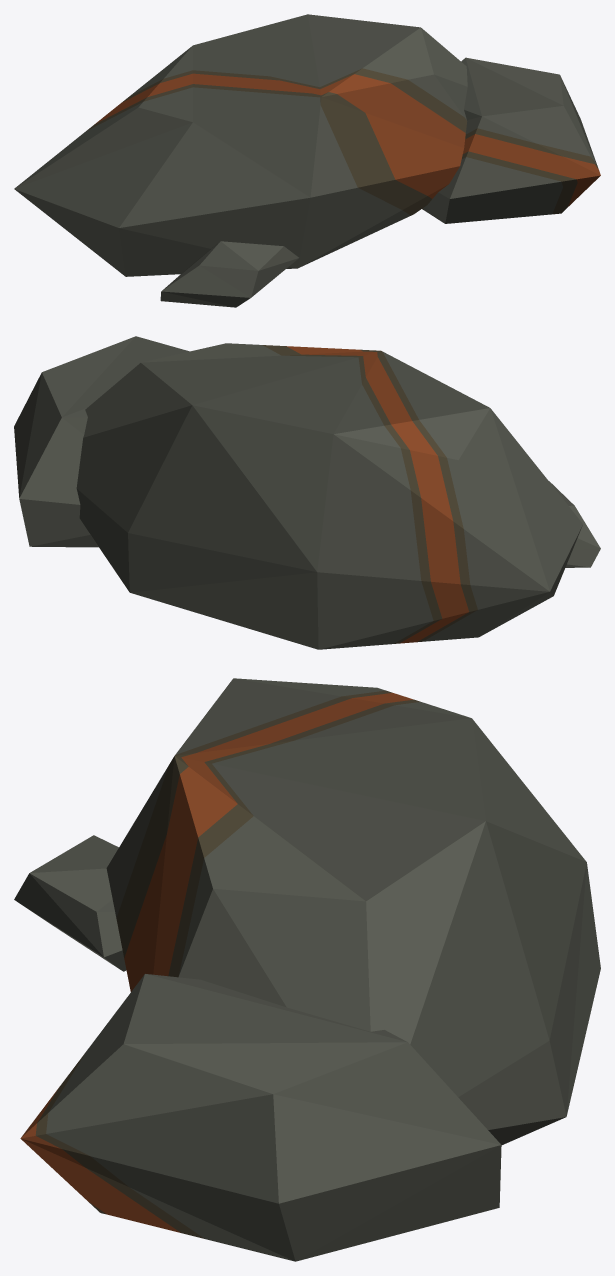
The model's file is ore_copper_v02_lod0.glb.
3 renders of one model, top to bottom at view 1: azimuth 30°, elevation 25°; view 2: azimuth 150°, elevation 25°; view 3: azimuth 270°, elevation 25°, orthographic. The views are drawn at different scales.
Visible parts, largest first — view 1: ore_copper_v02_lod0; view 2: ore_copper_v02_lod0; view 3: ore_copper_v02_lod0.
Part boxes in pixels (left/top/right/bottom): ore_copper_v02_lod0: left=14, top=14, right=600, bottom=307; ore_copper_v02_lod0: left=14, top=336, right=600, bottom=649; ore_copper_v02_lod0: left=14, top=678, right=600, bottom=1261.
Size of the model in its own units: 2.97 by 0.8486 by 1.67.
